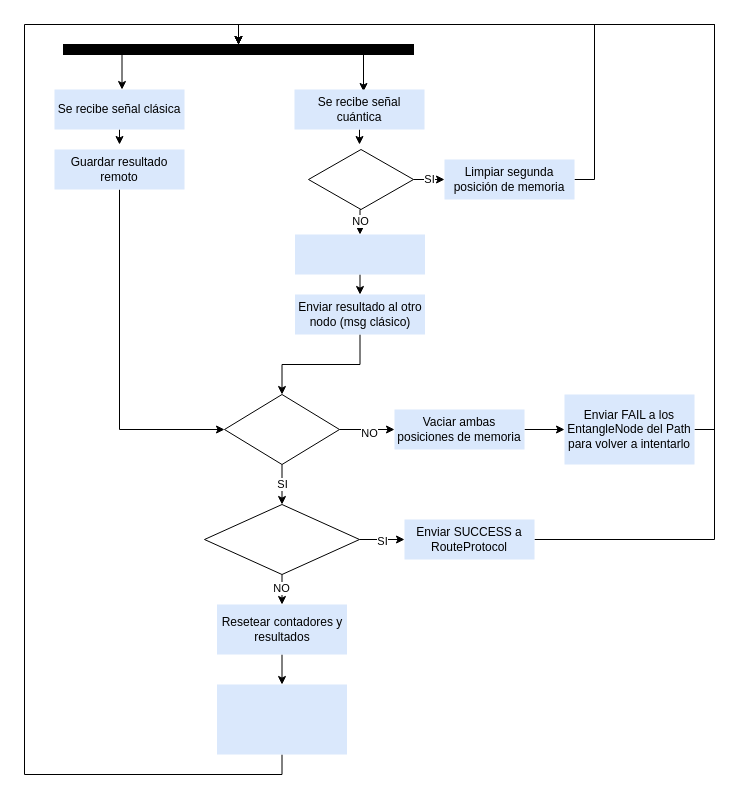
The diagram is 740 pixels wide and 800 high, and some of its shapes have lost their labels. Each missing label, with the centre of its shape:
"Enviar WAITING a EntangleNode del segundo link en los diferentes elementos" goes at point (281, 719).
"Medir con POVM DEJMPS y guardar resultado local" goes at point (359, 254).
"¿En ambos extremos misma medición?" goes at point (282, 429).
"¿Es el primer qubit?" goes at point (361, 179).
"¿Se ha alcanzado el número de rondas?" goes at point (282, 539).
